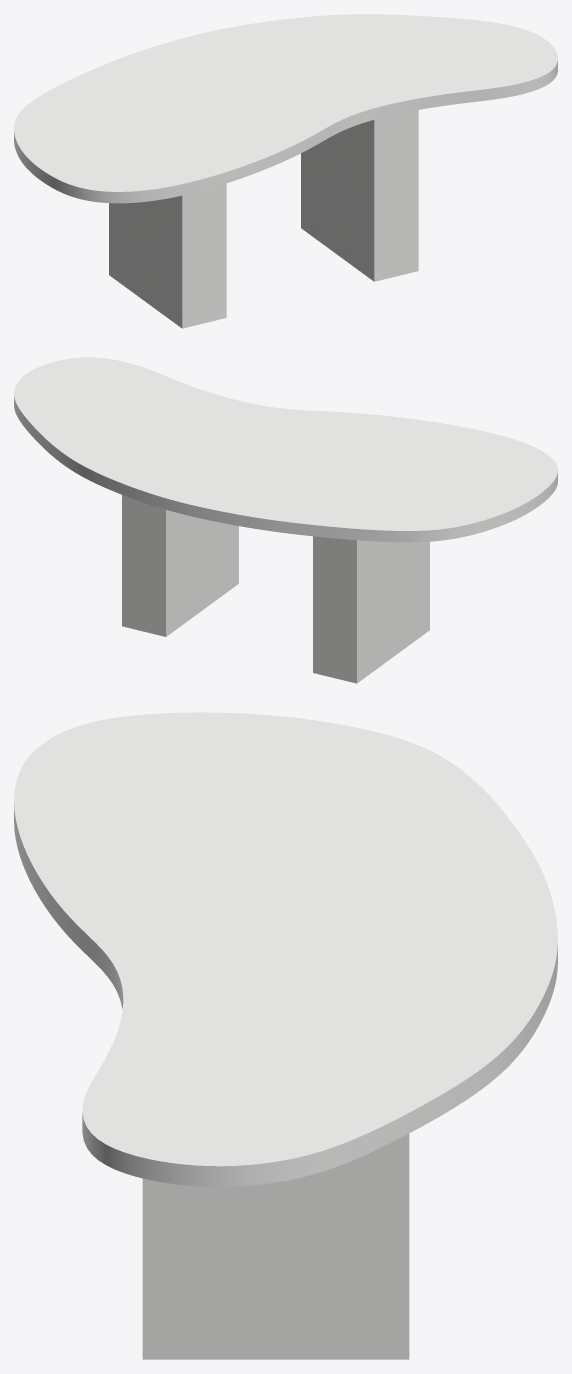
The model's file is purewhite_leaf1_standard_ridge.glb.
The picture shows the model from 3 angles, top to bottom: view 1: azimuth 30°, elevation 25°; view 2: azimuth 150°, elevation 25°; view 3: azimuth 270°, elevation 25°; orthographic projection. The views are drawn at different scales.
Parts seen in each view (by area): view 1: standard_leaf1, ridge; view 2: standard_leaf1, ridge; view 3: standard_leaf1, ridge.
Part boxes in pixels (bbox=[...]): standard_leaf1: bbox=[14, 14, 557, 203]; ridge: bbox=[109, 110, 418, 328]; standard_leaf1: bbox=[14, 357, 557, 542]; ridge: bbox=[122, 495, 429, 683]; standard_leaf1: bbox=[14, 712, 557, 1186]; ridge: bbox=[142, 1134, 409, 1359].
Size of the model in its own units: 7.5 by 2.51 by 3.8.
1 material, 1 textured.
